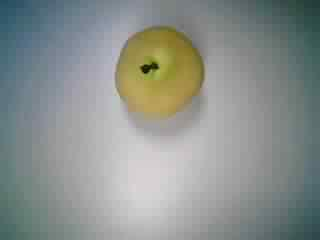pear: (105, 18, 211, 125)
